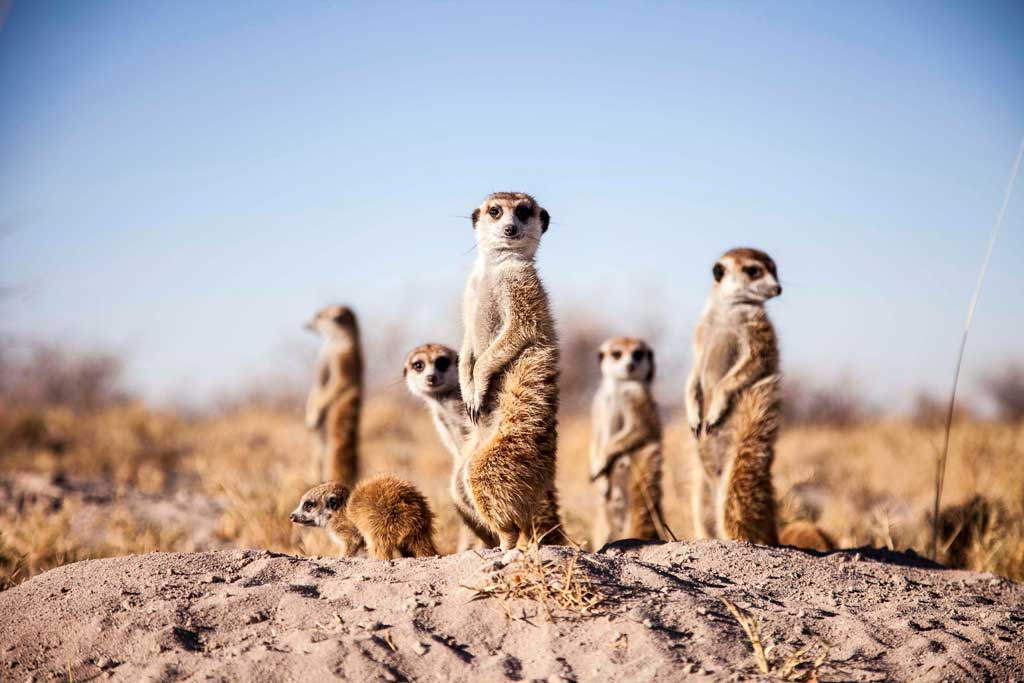meerkat: (437, 170, 637, 577), (657, 231, 855, 602)
